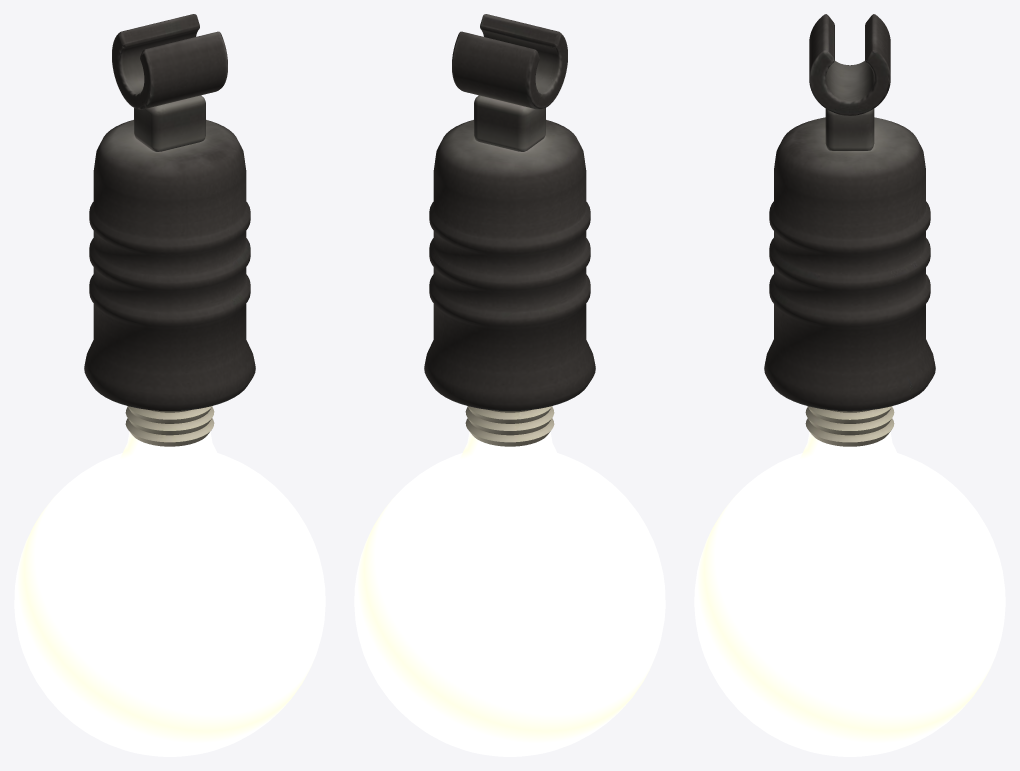
Rendered from corner_camp_bulb.glb.
3 renders of one model, left to right at view 1: azimuth 30°, elevation 25°; view 2: azimuth 150°, elevation 25°; view 3: azimuth 270°, elevation 25°, orthographic.
Parts seen in each view (by area): view 1: BulbGlass, BulbSocket; view 2: BulbGlass, BulbSocket; view 3: BulbGlass, BulbSocket.
Part boxes in pixels (<box>): BulbGlass: <box>14,431,325,756</box>; BulbSocket: <box>84,14,255,446</box>; BulbGlass: <box>354,431,665,756</box>; BulbSocket: <box>424,14,595,446</box>; BulbGlass: <box>694,432,1005,756</box>; BulbSocket: <box>764,14,935,446</box>.
Size of the model in its own units: 0.045 by 0.1151 by 0.045.
3 materials, 1 textured.
